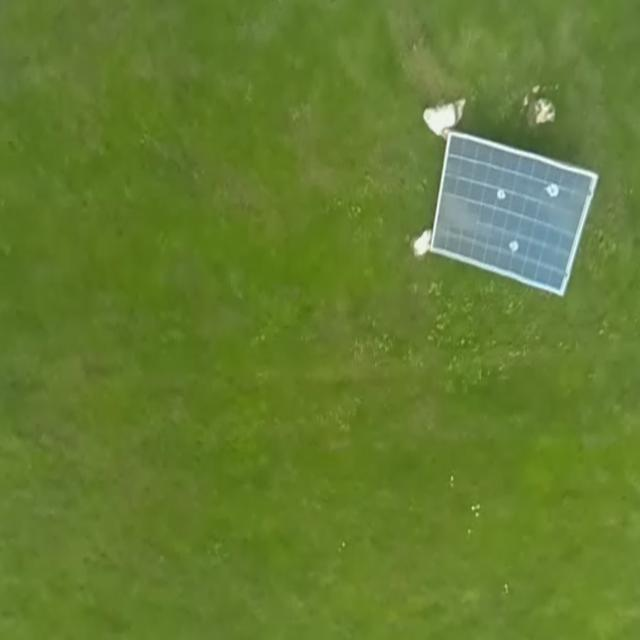faulty: (428, 133, 598, 302)
